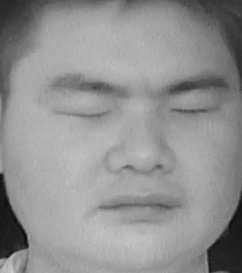blink: (59, 96, 110, 129), (172, 95, 219, 127)
mouth: (98, 182, 177, 228)
